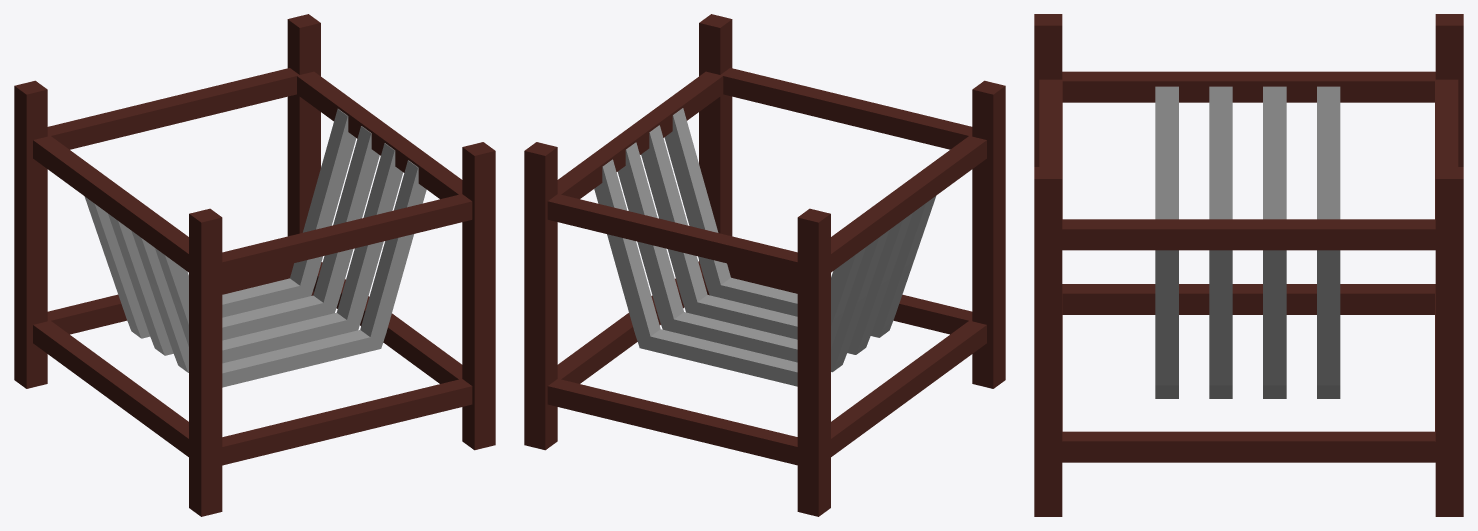
The model's file is hay_basket.FBX.
The picture shows the model from 3 angles, left to right: view 1: azimuth 30°, elevation 25°; view 2: azimuth 150°, elevation 25°; view 3: azimuth 270°, elevation 25°; orthographic projection. The views are drawn at different scales.
Visible parts, largest first — view 1: hay_basket; view 2: hay_basket; view 3: hay_basket.
Boxes of the visible parts, x1,y1,x2,y2 form: hay_basket: (14, 14, 495, 516); hay_basket: (524, 14, 1005, 516); hay_basket: (1034, 14, 1463, 516).
Size of the model in its own units: 1.77 by 1.7 by 1.95.
1 material, 1 textured.
